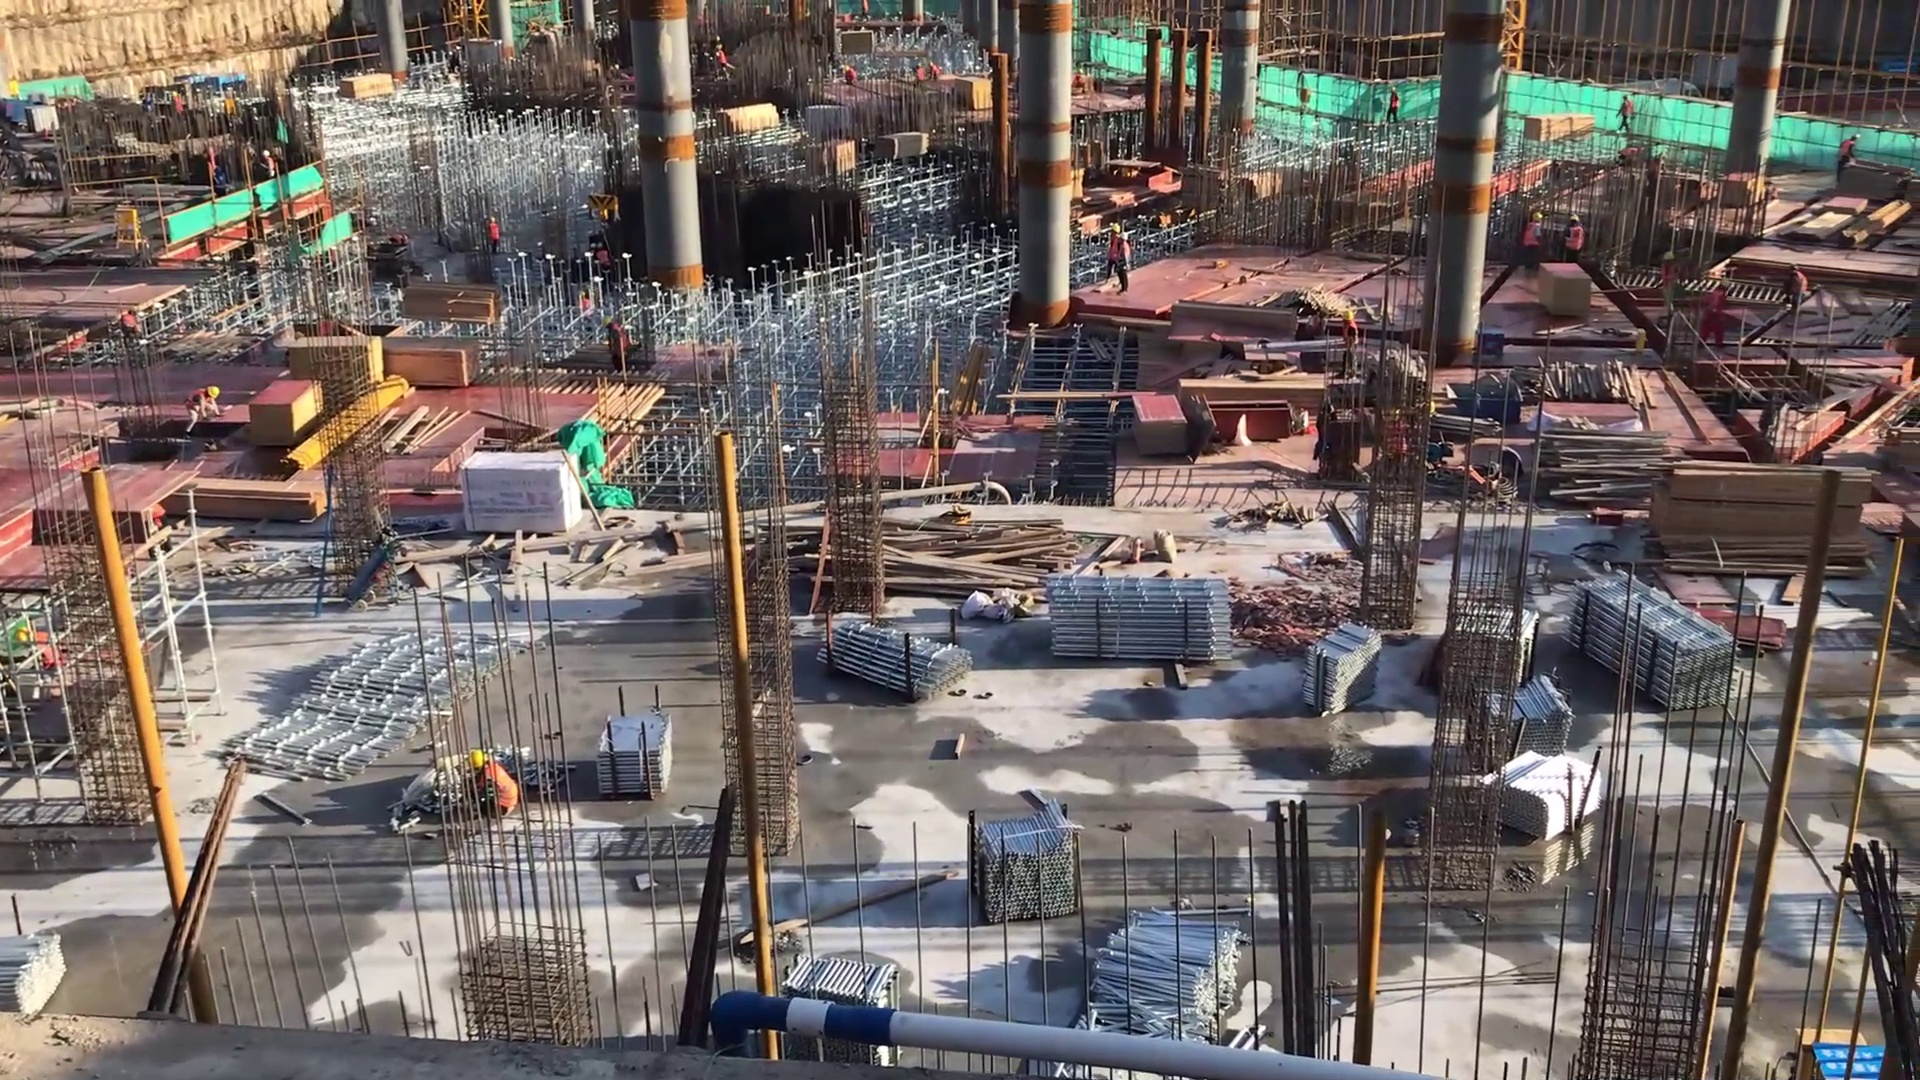board: (1679, 599, 1787, 666), (281, 331, 382, 400), (247, 376, 325, 450), (1132, 391, 1192, 460), (948, 78, 995, 116)
ebox: (109, 201, 147, 257)
helmet: (461, 744, 489, 775), (19, 623, 33, 650), (204, 386, 220, 400), (1118, 229, 1132, 245), (1719, 277, 1733, 291), (1342, 311, 1355, 325), (1566, 212, 1581, 224), (1532, 210, 1544, 223), (1111, 222, 1122, 236), (1663, 250, 1675, 262), (262, 149, 272, 159), (489, 214, 497, 223), (1390, 84, 1398, 94), (598, 241, 604, 250)
hook: (1447, 382, 1529, 428)
person: (462, 743, 526, 837), (180, 381, 225, 444), (1703, 275, 1740, 351), (1653, 248, 1686, 331), (142, 489, 173, 568), (1780, 260, 1810, 336), (1520, 208, 1552, 279), (1338, 304, 1362, 386), (1833, 128, 1862, 190), (605, 316, 633, 376), (1105, 217, 1125, 292), (119, 302, 148, 349), (1563, 210, 1586, 268), (1118, 226, 1136, 301), (593, 238, 616, 290), (1608, 141, 1646, 170), (259, 148, 282, 191), (1386, 82, 1403, 140), (1617, 93, 1638, 137), (485, 213, 504, 261), (714, 39, 732, 86), (383, 225, 415, 251), (213, 167, 231, 206), (839, 60, 861, 90), (913, 62, 927, 88), (930, 57, 941, 84)
scaffold: (1086, 902, 1261, 1066), (1565, 569, 1745, 726), (1045, 577, 1234, 664), (966, 805, 1090, 937), (820, 616, 987, 703), (1476, 662, 1573, 766), (1, 919, 81, 1024), (1311, 614, 1386, 710)
slogan: (1797, 1037, 1892, 1080)
vest: (484, 755, 524, 820), (186, 382, 209, 422), (1566, 223, 1586, 257), (1340, 321, 1361, 352), (1657, 262, 1682, 286), (1523, 222, 1543, 250), (1117, 242, 1132, 274), (598, 249, 612, 272), (213, 174, 230, 193), (490, 221, 501, 243)
wood: (1647, 460, 1877, 582), (882, 512, 1073, 606), (1536, 425, 1678, 510), (170, 473, 323, 527), (1173, 379, 1349, 419), (380, 335, 492, 388), (393, 286, 508, 324), (1526, 107, 1598, 144), (707, 104, 785, 138), (875, 129, 936, 172)
